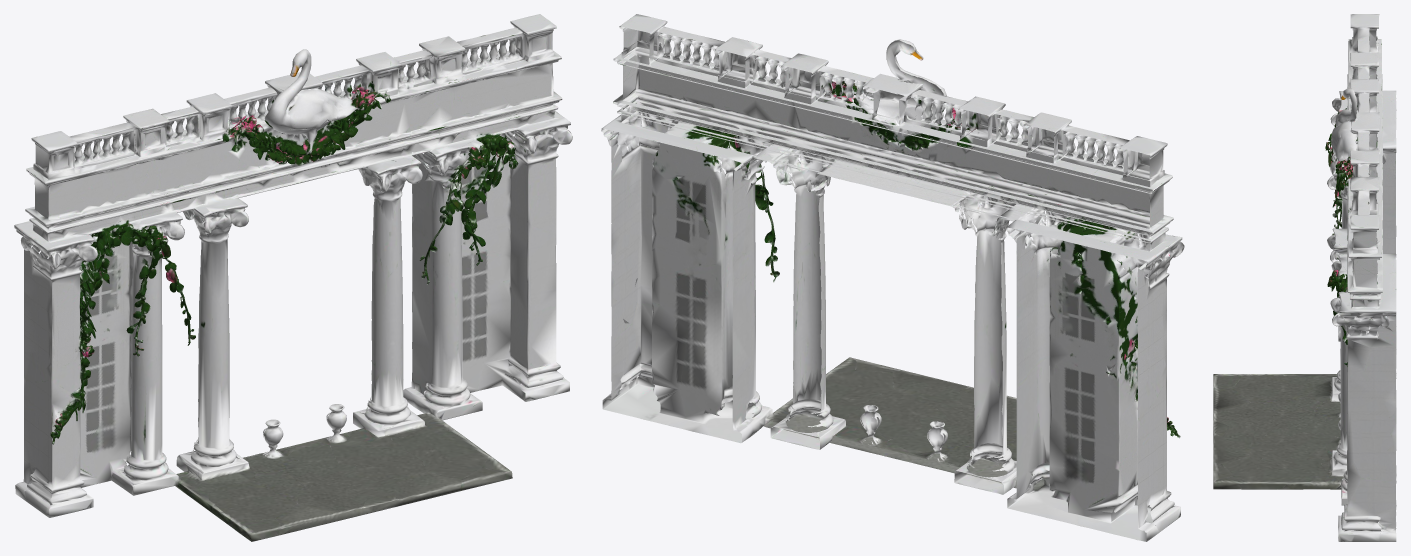
Rendered from garden_gate.glb.
3 views of the same model, side by side, from view 1: azimuth 30°, elevation 25°; view 2: azimuth 150°, elevation 25°; view 3: azimuth 270°, elevation 25° (orthographic). The views are drawn at different scales.
Size of the model in its own units: 1.9 by 1.39 by 0.6702.
1 material, 1 textured.
